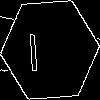I: (25, 25, 41, 71)
